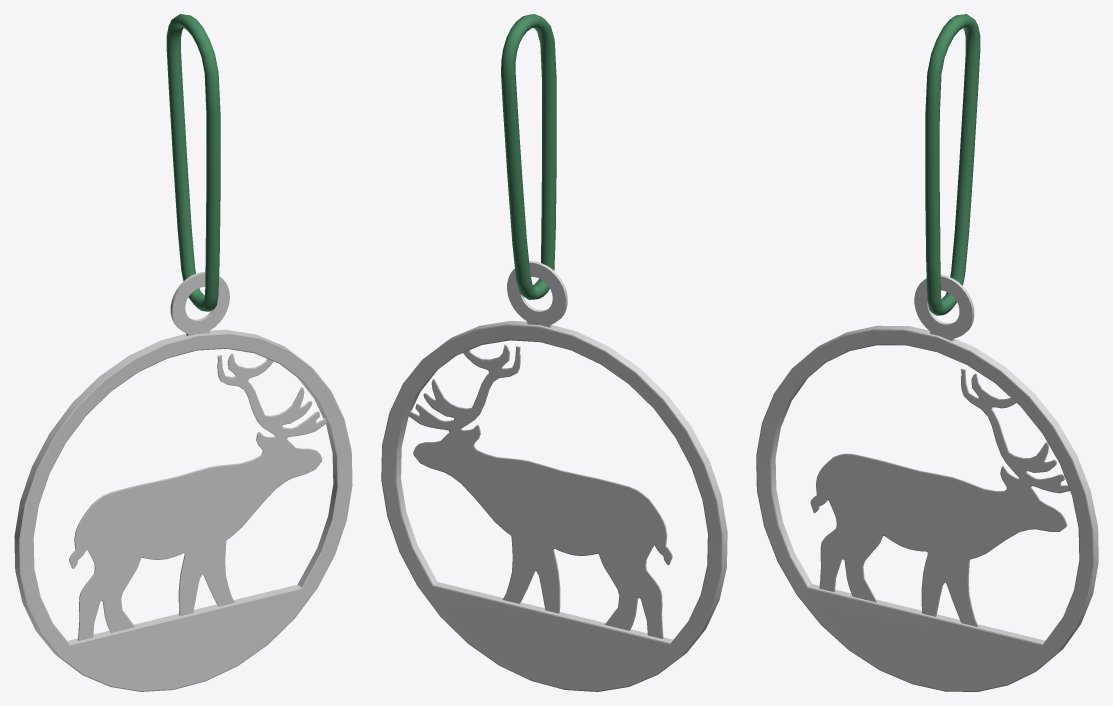
Rendered from kov2.fbx.
3 views of the same model, side by side, from view 1: azimuth 30°, elevation 25°; view 2: azimuth 150°, elevation 25°; view 3: azimuth 330°, elevation 25° (orthographic). The views are drawn at different scales.
Parts seen in each view (by area): view 1: Cylinder.003, Sphere.004; view 2: Cylinder.003, Sphere.004; view 3: Cylinder.003, Sphere.004.
Boxes of the visible parts, x1,y1,x2,y2 form: Cylinder.003: [14, 272, 352, 691]; Sphere.004: [166, 14, 220, 311]; Cylinder.003: [381, 261, 727, 691]; Sphere.004: [501, 14, 556, 299]; Cylinder.003: [756, 275, 1098, 691]; Sphere.004: [925, 14, 980, 315].
Bounding box in the file's own units: 45.33 × 85.17 × 11.08.
